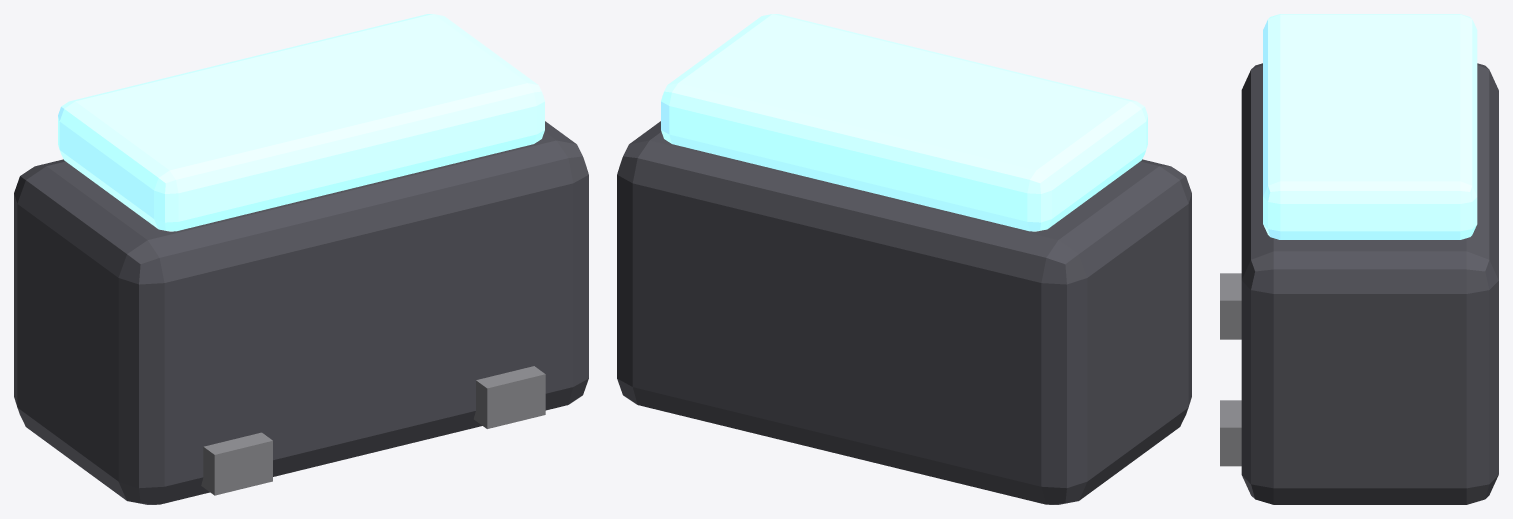
The model's file is pickup_battery.glb.
3 views of the same model, side by side, from view 1: azimuth 30°, elevation 25°; view 2: azimuth 150°, elevation 25°; view 3: azimuth 270°, elevation 25° (orthographic). The views are drawn at different scales.
Parts seen in each view (by area): view 1: pickup_battery; view 2: pickup_battery; view 3: pickup_battery.
Boxes of the visible parts, bbox=[...] form: pickup_battery: bbox=[14, 14, 588, 504]; pickup_battery: bbox=[617, 14, 1191, 504]; pickup_battery: bbox=[1220, 14, 1498, 504].
Bounding box in the file's own units: 0.24 × 0.16 × 0.13.
